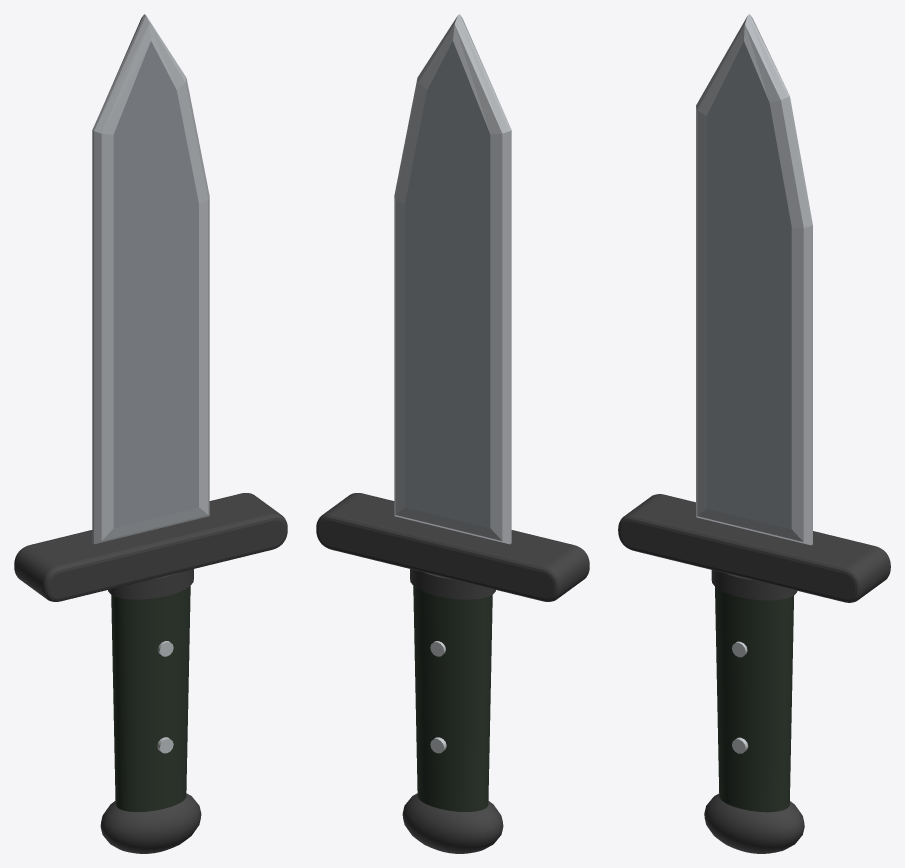
The model's file is 04_Common_Field_Knife.glb.
The picture shows the model from 3 angles, left to right: view 1: azimuth 30°, elevation 25°; view 2: azimuth 150°, elevation 25°; view 3: azimuth 330°, elevation 25°; orthographic projection.
Parts seen in each view (by area): view 1: blade_1, handle_2, guard_0, pommel_4, ferrule_3; view 2: blade_1, handle_2, guard_0, pommel_4, ferrule_3; view 3: blade_1, handle_2, guard_0, pommel_4, ferrule_3.
Boxes of the visible parts, x1,y1,x2,y2 form: blade_1: (92, 14, 209, 544); handle_2: (111, 586, 190, 812); guard_0: (14, 493, 287, 601); pommel_4: (100, 793, 201, 853); ferrule_3: (108, 569, 193, 599); blade_1: (394, 14, 511, 544); handle_2: (413, 586, 492, 812); guard_0: (316, 493, 589, 601); pommel_4: (402, 793, 503, 853); ferrule_3: (410, 569, 495, 599); blade_1: (696, 14, 812, 545); handle_2: (715, 576, 793, 812); guard_0: (618, 494, 890, 602); pommel_4: (704, 793, 804, 853); ferrule_3: (711, 570, 797, 600).
Bounding box in the file's own units: 0.1585 × 0.5177 × 0.043.
7 materials, 7 textured.
